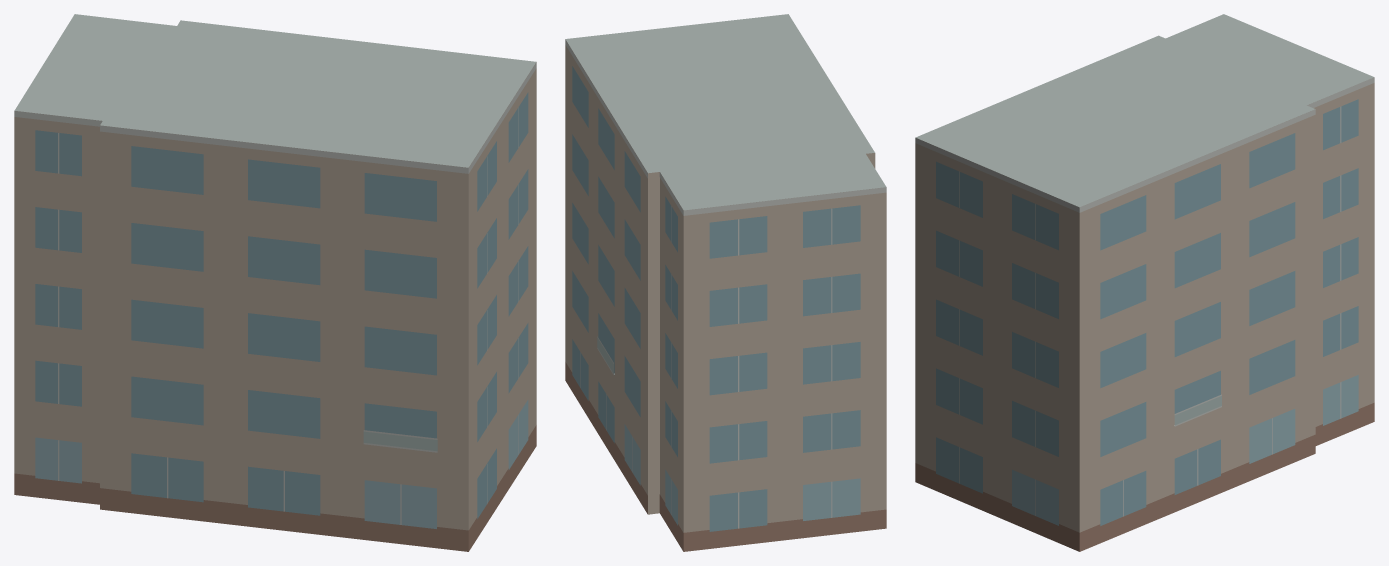
Rendered from survey-upis-32725392.glb.
The picture shows the model from 3 angles, left to right: view 1: azimuth 30°, elevation 25°; view 2: azimuth 150°, elevation 25°; view 3: azimuth 270°, elevation 25°; orthographic projection. The views are drawn at different scales.
Parts seen in each view (by area): view 1: survey-upis-32725392.tmp; view 2: survey-upis-32725392.tmp; view 3: survey-upis-32725392.tmp.
Boxes of the visible parts, x1=… form: survey-upis-32725392.tmp: x1=14, y1=14, x2=536, y2=551; survey-upis-32725392.tmp: x1=565, y1=14, x2=886, y2=551; survey-upis-32725392.tmp: x1=915, y1=14, x2=1374, y2=551.
Size of the model in its own units: 18.36 by 15.25 by 18.43.
